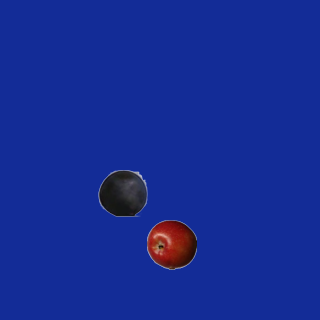Apple Braeburn: (146, 219, 196, 269)
Grape Blue: (97, 167, 147, 217)
